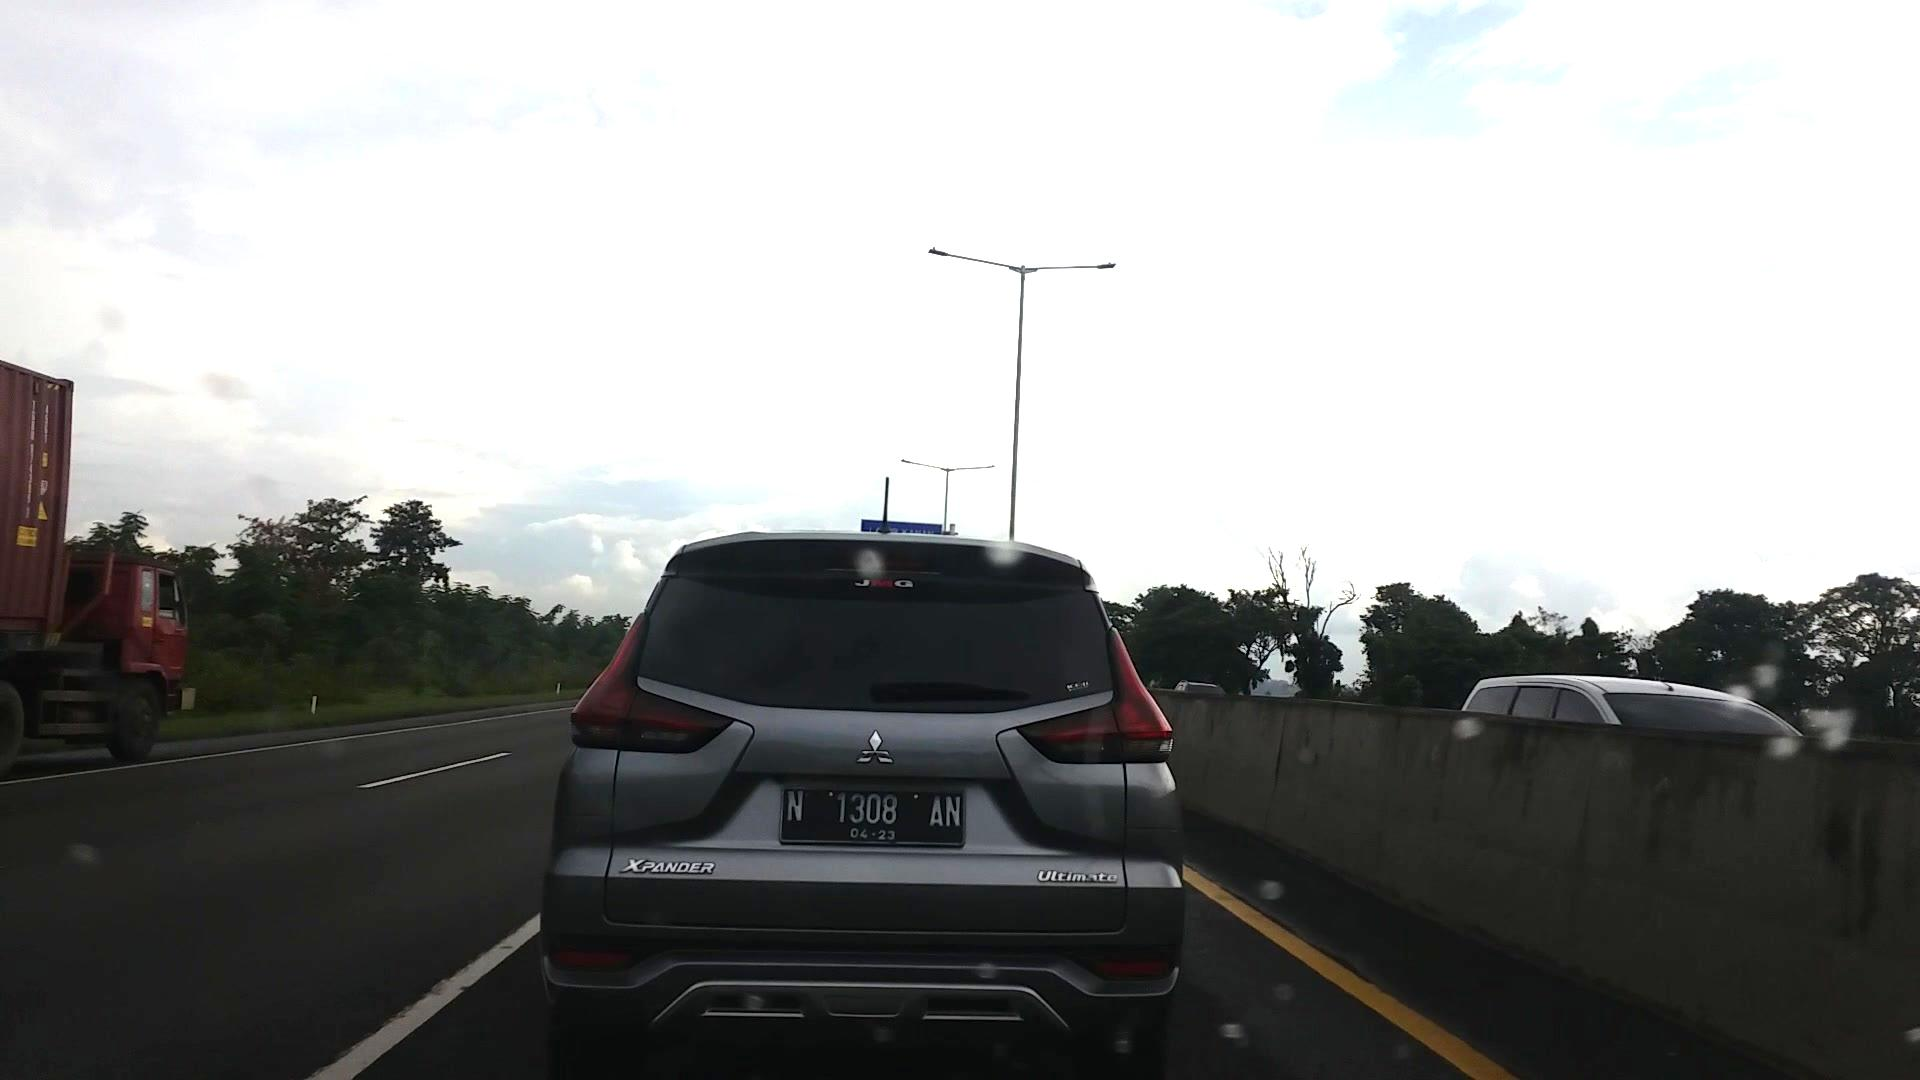plate_positive: (779, 785, 964, 848)
